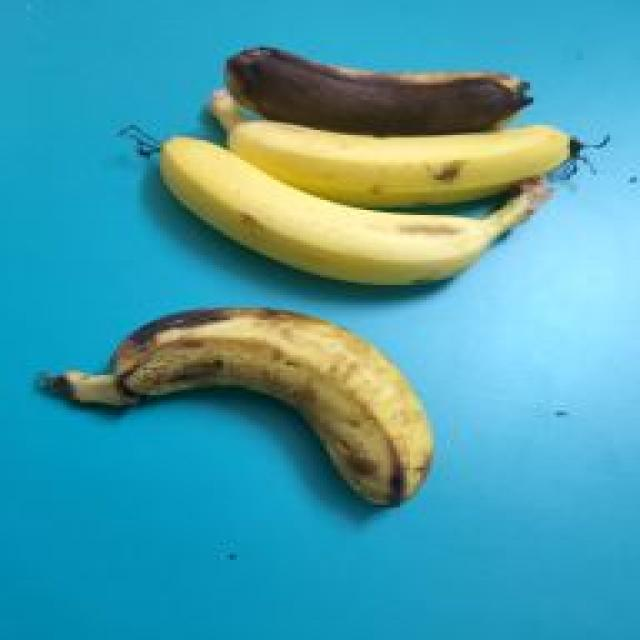Organik: (51, 294, 498, 522), (117, 138, 575, 297), (204, 85, 608, 203), (235, 21, 550, 141)
